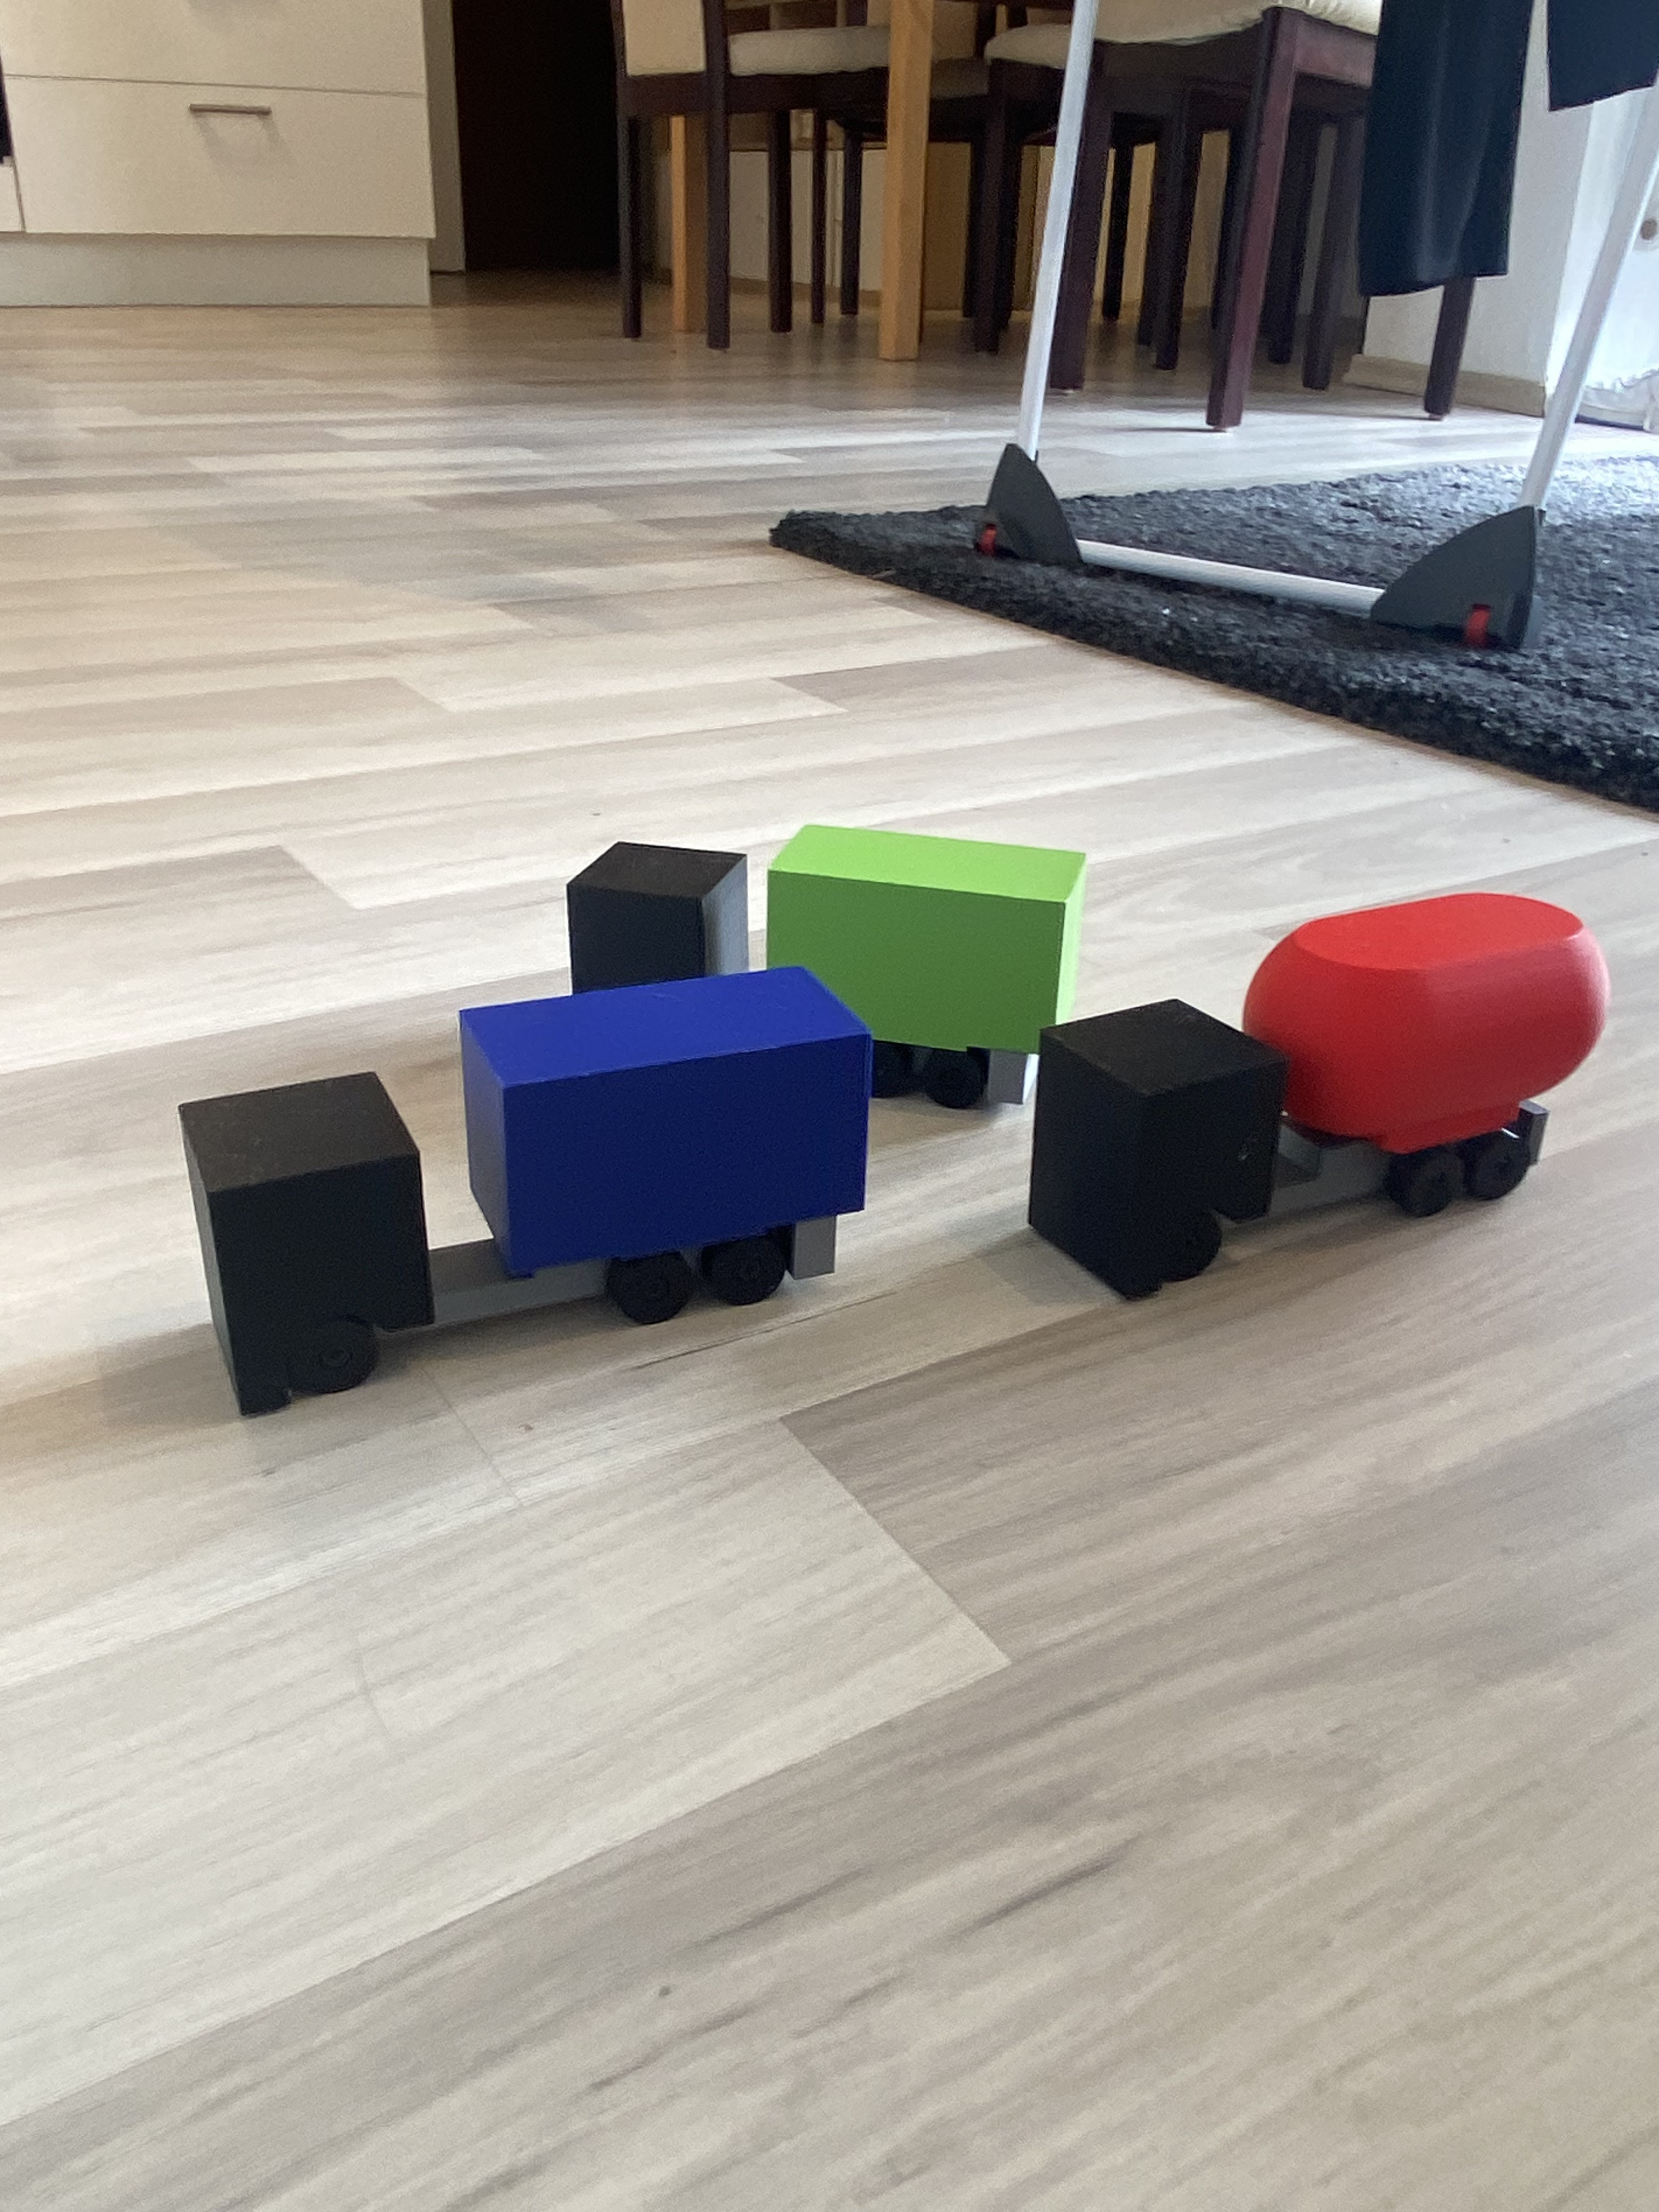blue_truck: (352, 820, 721, 1529)
green_truck: (685, 712, 976, 1223)
red_truck: (1161, 777, 1486, 1418)
